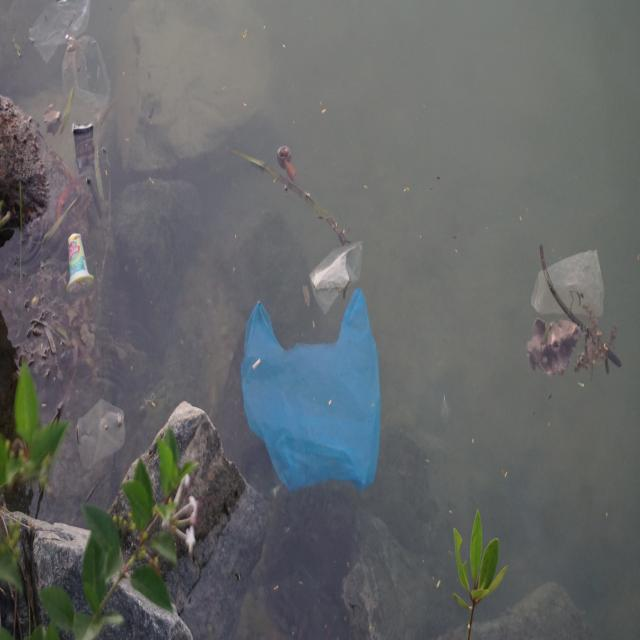Bungkus Minuman: (70, 398, 128, 471), (66, 231, 97, 298)
Kantong Plastik: (242, 287, 388, 493), (59, 12, 126, 121), (522, 246, 610, 326), (300, 232, 366, 305)
